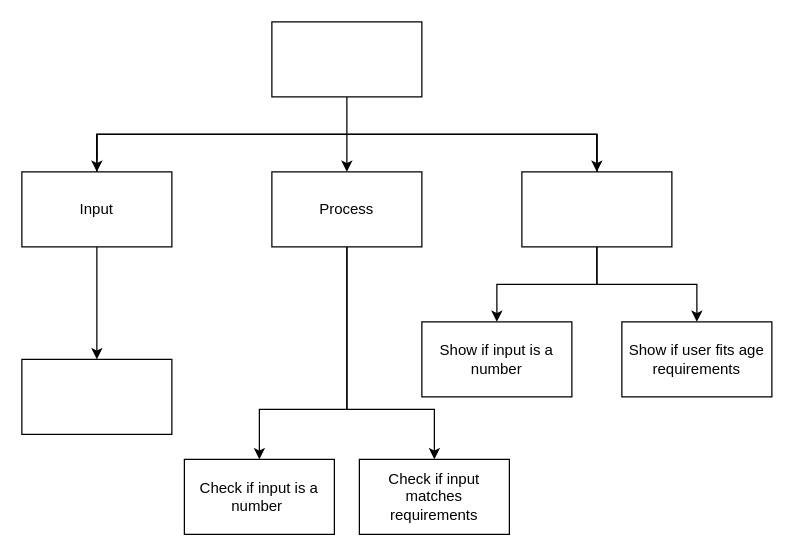
Image size: 794x556. Some labels were removed from this diagram. The shapes that lost their labels are listed below. From the top down, each one's centre as x and y in pixels, then its label:
the point at 346,59: Boolean Approvals
the point at 596,209: Output
the point at 96,396: get age_num from user
